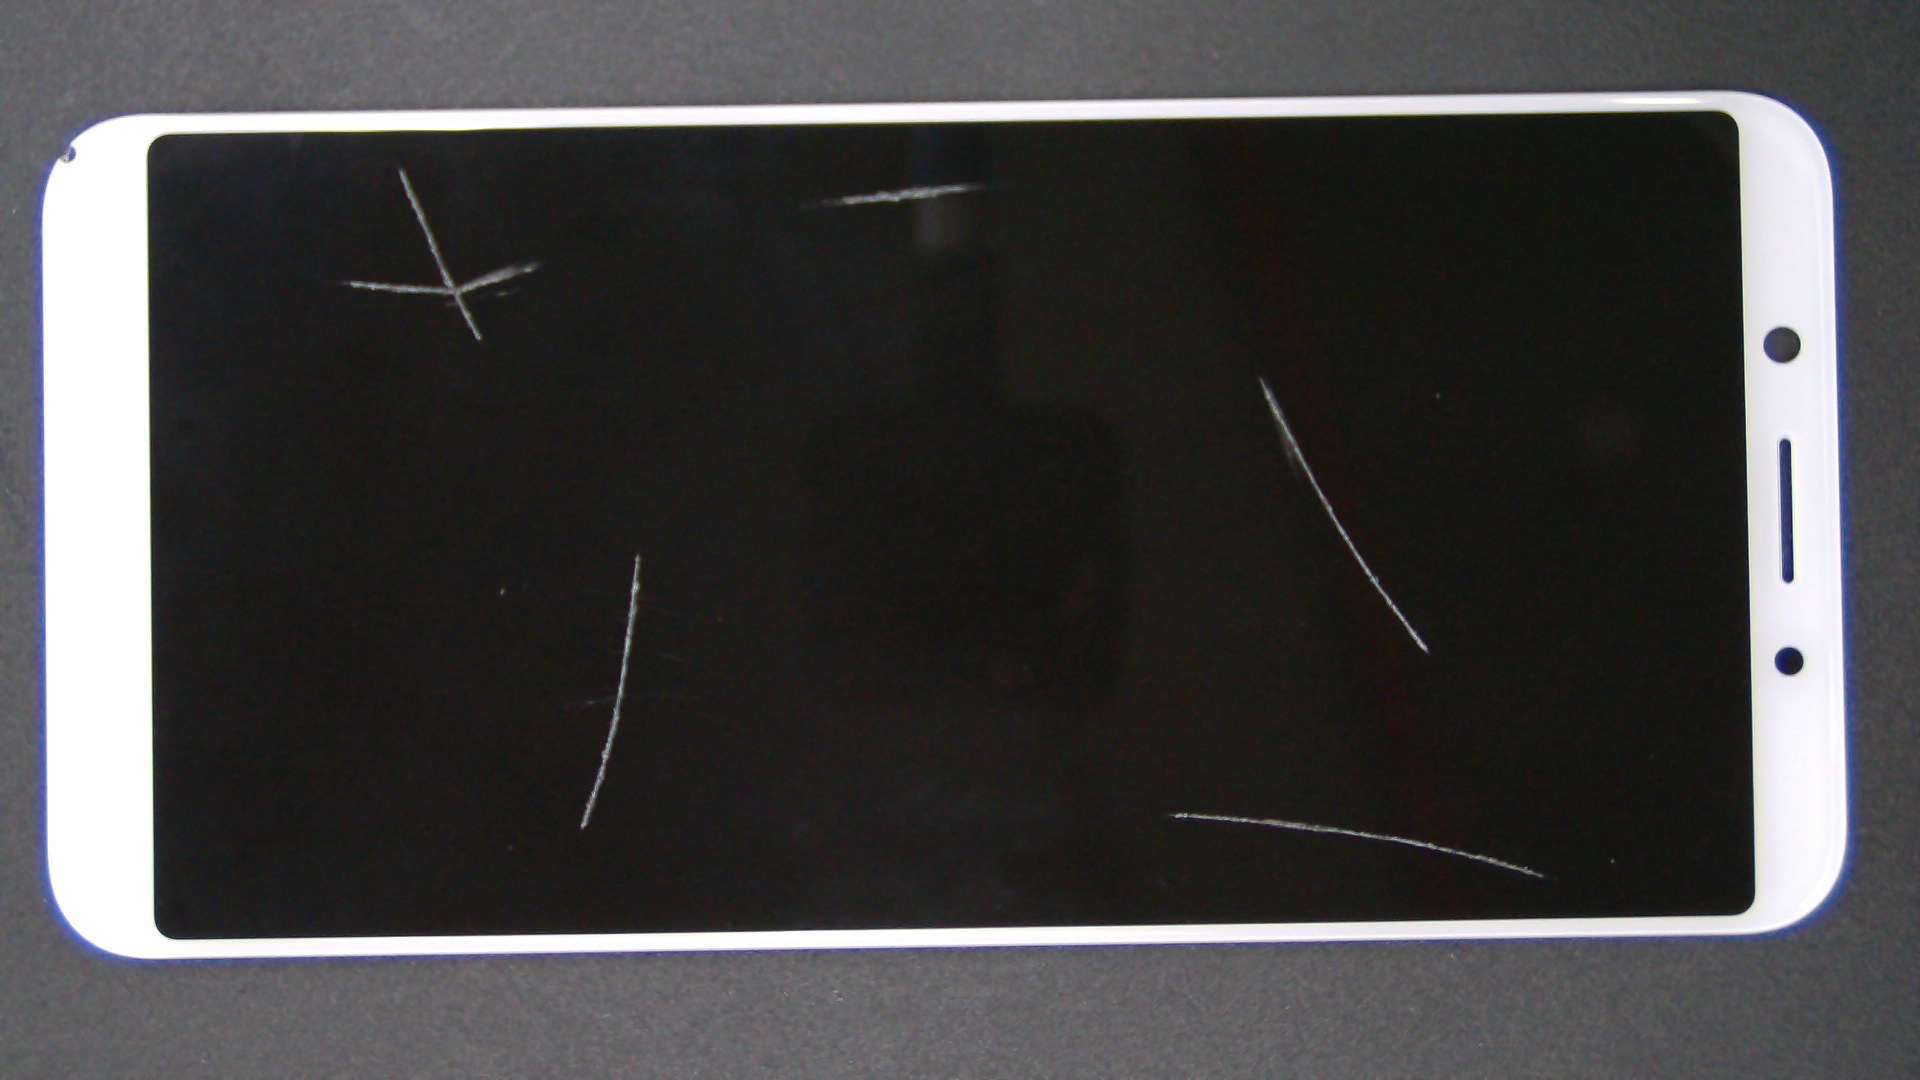defect: (1258, 376, 1429, 653), (324, 167, 541, 342), (1168, 812, 1545, 878), (579, 553, 642, 829), (800, 185, 985, 208), (496, 286, 520, 295)
